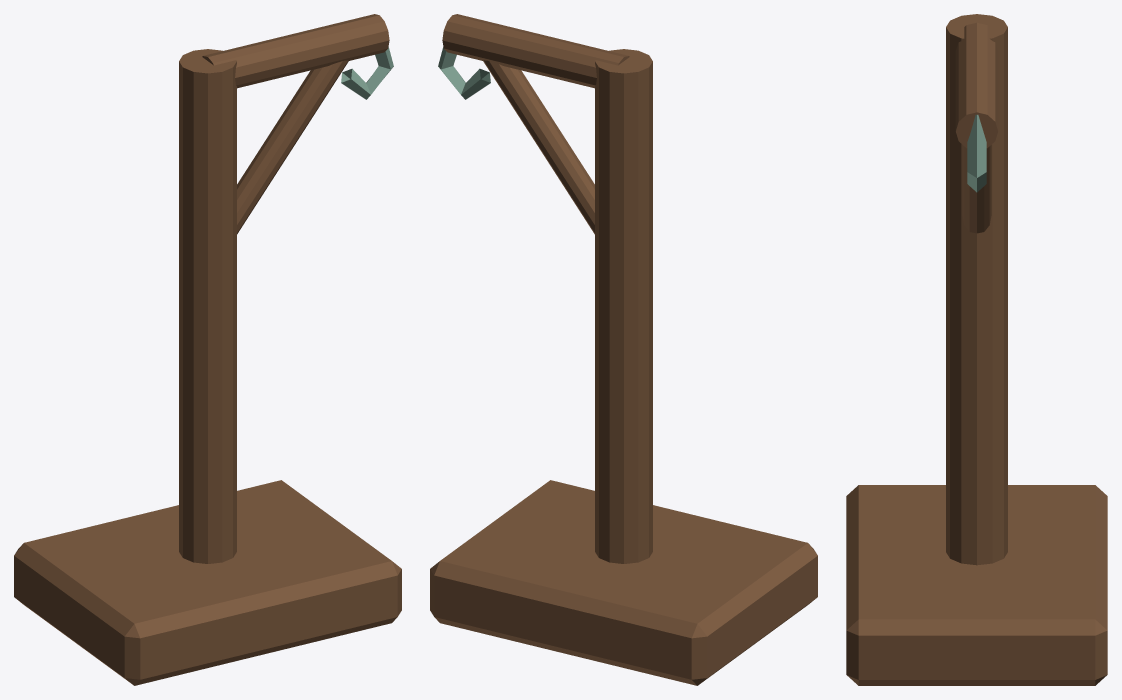
The picture shows the model from 3 angles, left to right: view 1: azimuth 30°, elevation 25°; view 2: azimuth 150°, elevation 25°; view 3: azimuth 270°, elevation 25°; orthographic projection. The views are drawn at different scales.
Parts seen in each view (by area): view 1: BA-0032 batched; view 2: BA-0032 batched; view 3: BA-0032 batched.
Part boxes in pixels (x1=…): BA-0032 batched: x1=14, y1=14, x2=401, y2=685; BA-0032 batched: x1=430, y1=14, x2=817, y2=685; BA-0032 batched: x1=846, y1=14, x2=1107, y2=685.
Bounding box in the file's own units: 0.4916 × 0.806 × 0.32.
